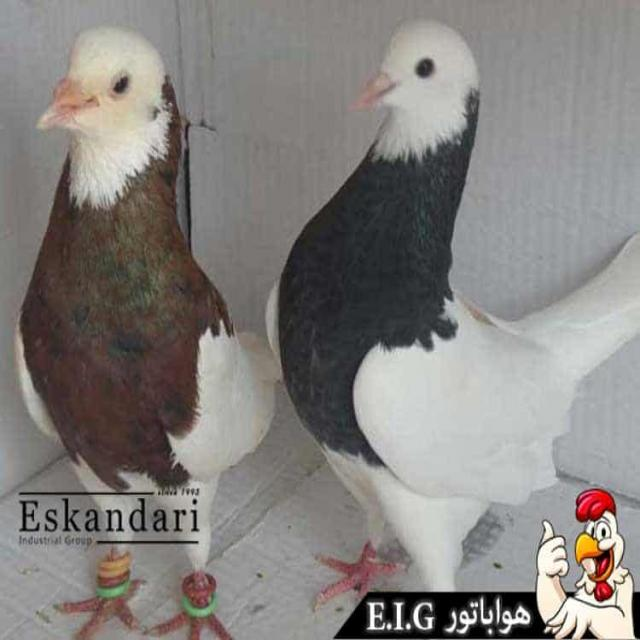bird: (0, 2, 277, 640), (259, 16, 547, 592)
